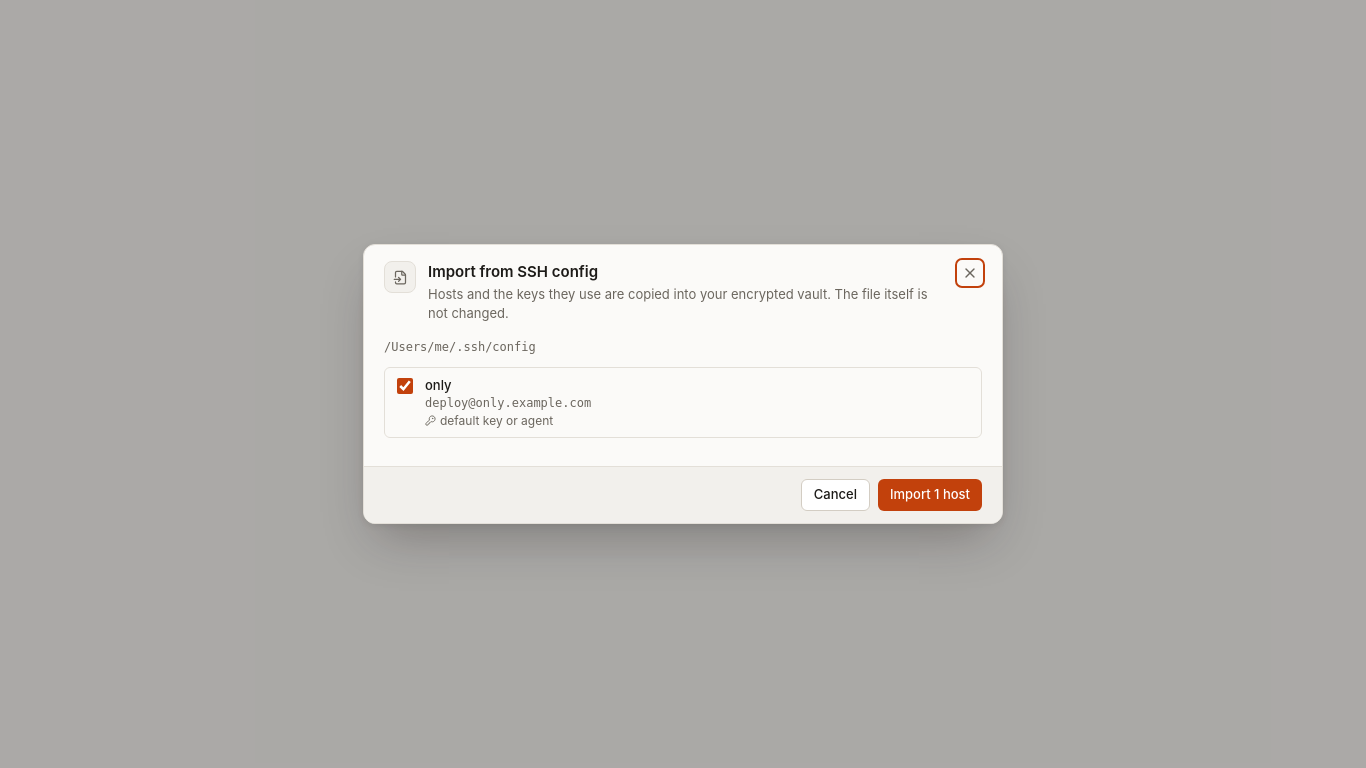
Test: ImportSshConfigDialog › disables import when nothing is selected
What coordinates should you click on to do the following:
click the checkbox labelled "only"
I would click on:
 (405, 386)
Its box is left=397, top=378, right=413, bottom=394.
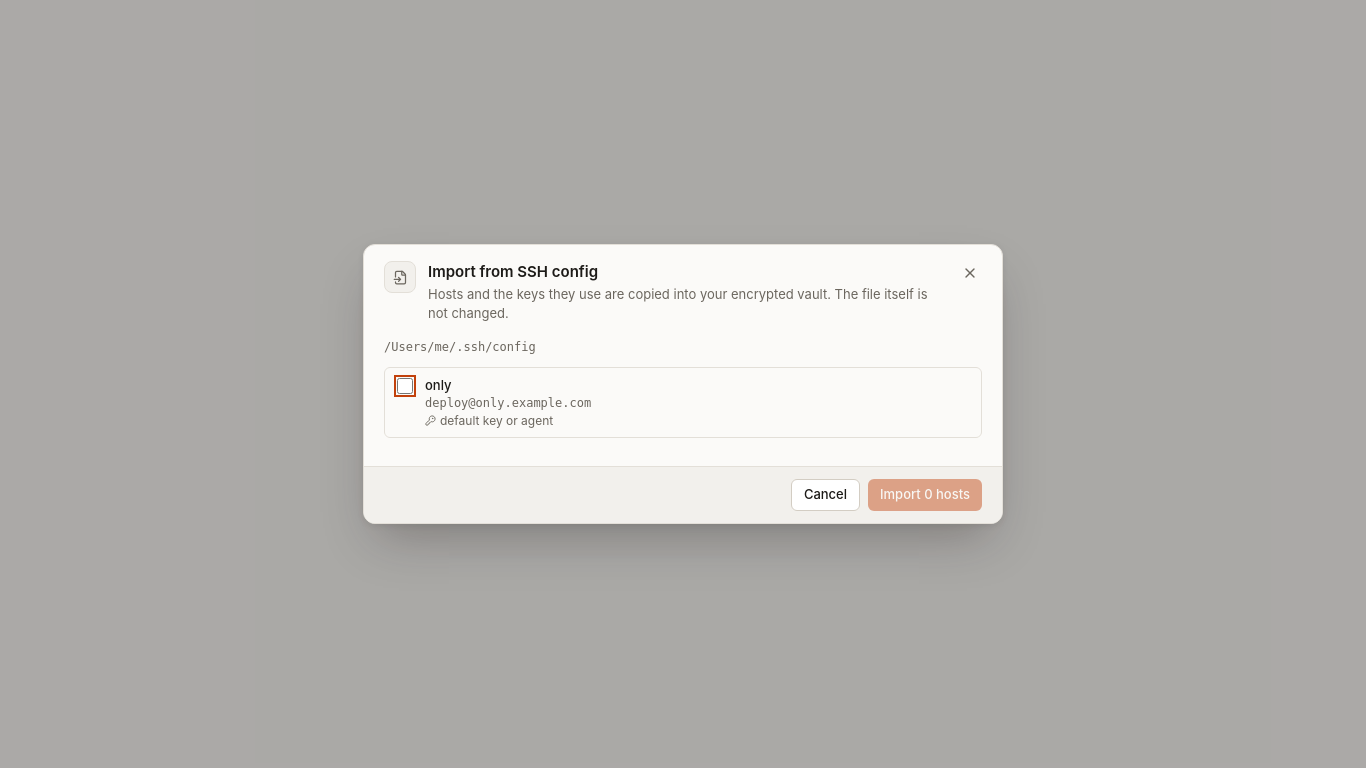
Now the button "Import 0 hosts" is disabled, box left=868, top=479, right=982, bottom=511
